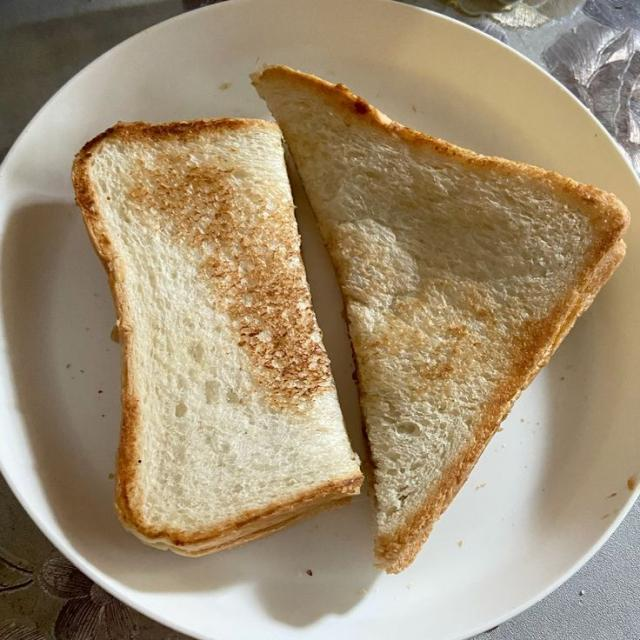toast bread: (252, 66, 628, 572), (73, 118, 362, 554)
